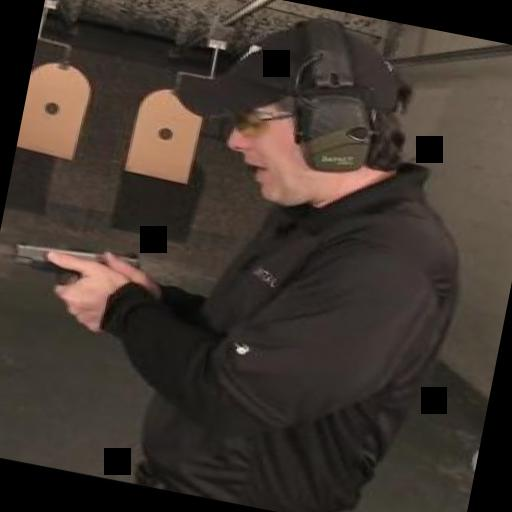Handgun: (0, 228, 145, 323)
